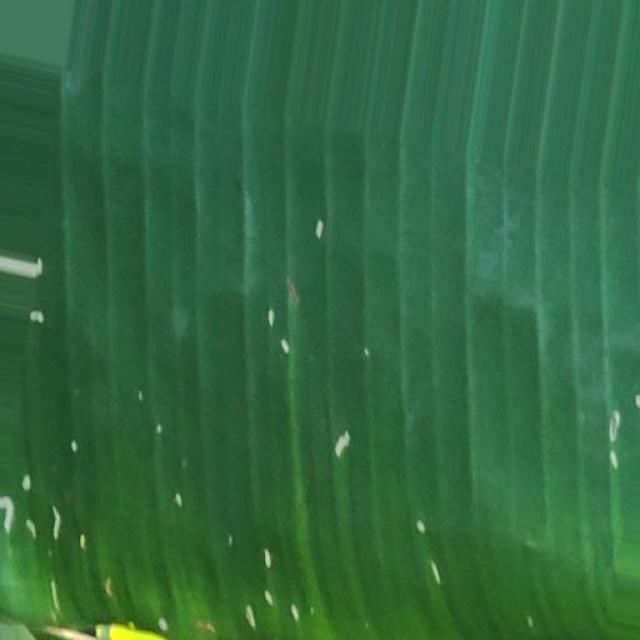Black_rot: (0, 235, 514, 640)
